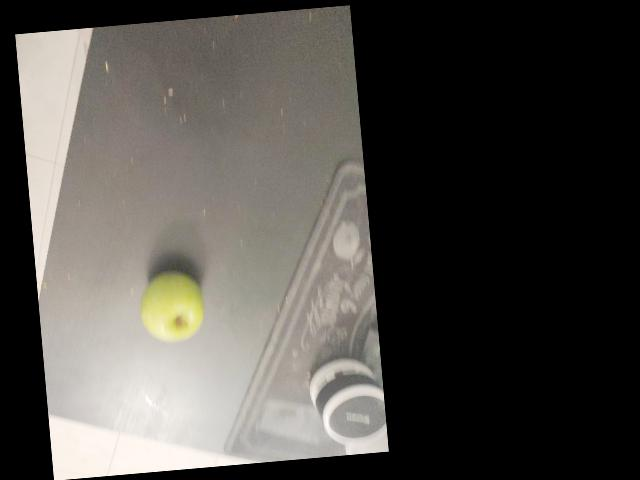apple: (173, 295, 259, 373)
